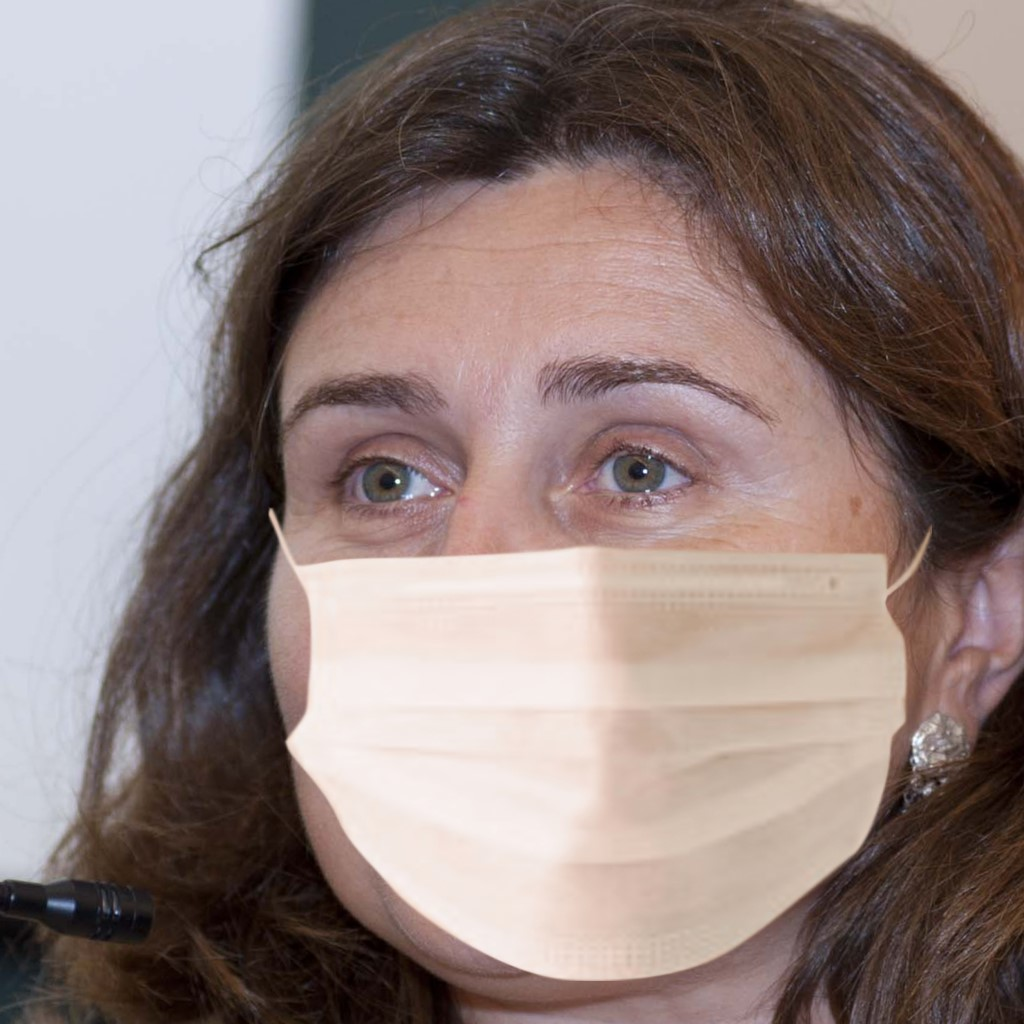con_mascara: (289, 199, 899, 932)
